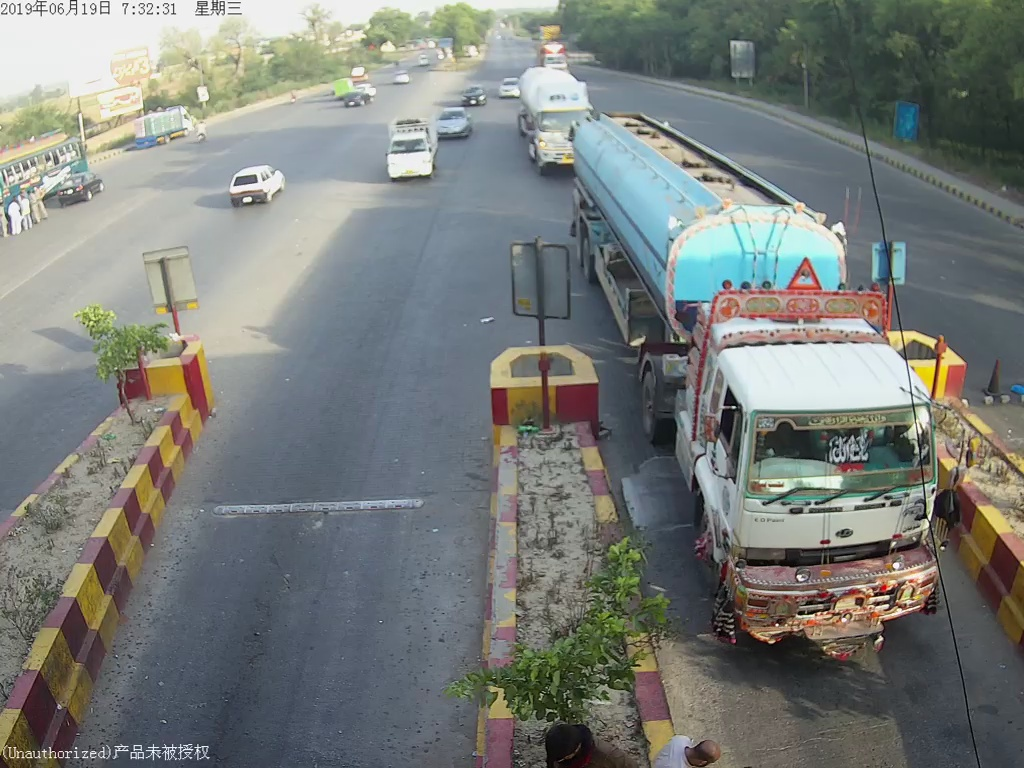Cat-2: (375, 122, 441, 185)
Cat-5: (572, 114, 961, 664)
